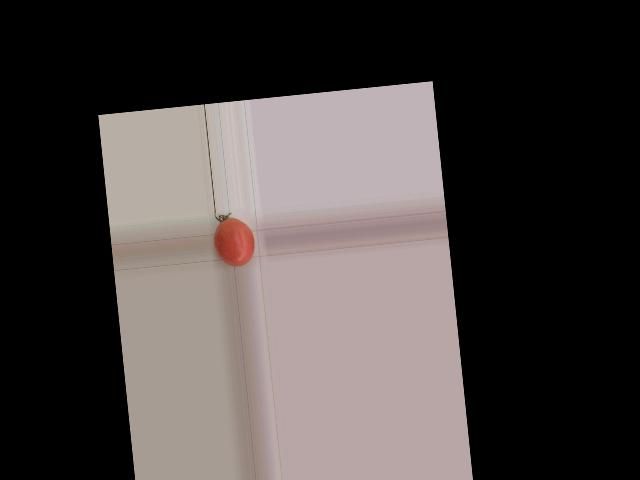tomato: (211, 215, 256, 268)
